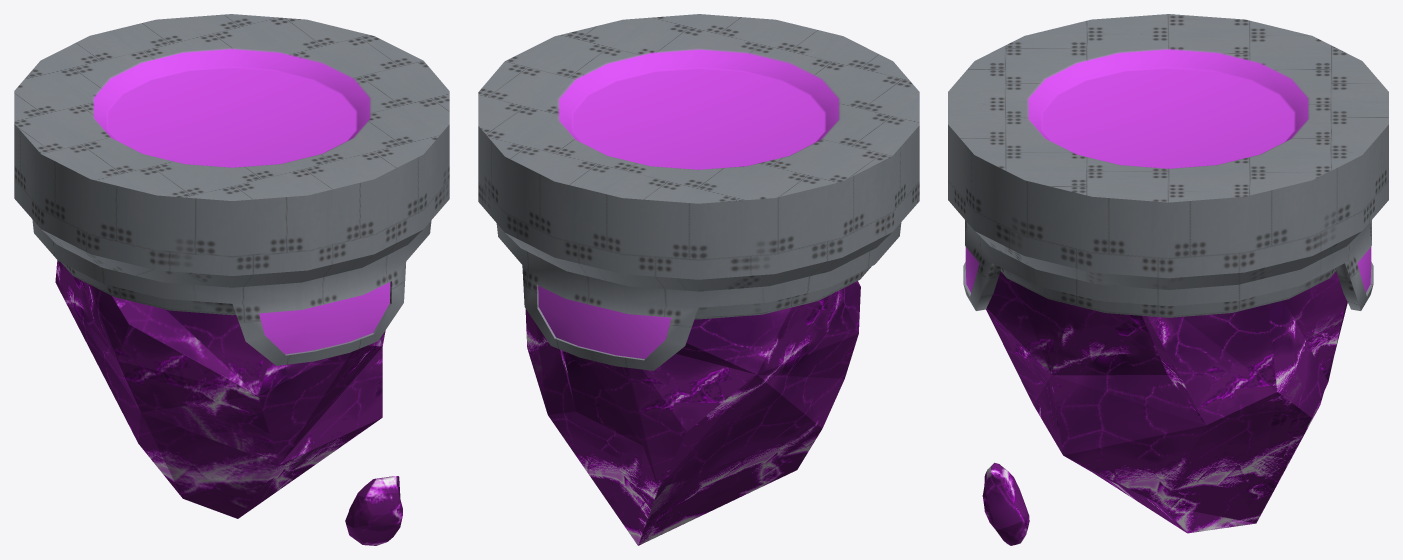
The model's file is PlataformaAerea.fbx.
3 views of the same model, side by side, from view 1: azimuth 30°, elevation 25°; view 2: azimuth 150°, elevation 25°; view 3: azimuth 270°, elevation 25° (orthographic).
Visible parts, largest first — view 1: PlataformaAerea, Roca; view 2: PlataformaAerea, Roca; view 3: PlataformaAerea, Roca.
Part boxes in pixels (box(x1,y1,x2,y2)): PlataformaAerea: box(14, 14, 449, 365); Roca: box(55, 260, 402, 545); PlataformaAerea: box(478, 14, 919, 370); Roca: box(525, 281, 860, 545); PlataformaAerea: box(948, 14, 1388, 317); Roca: box(982, 271, 1347, 545).
Bounding box in the file's own units: 536 × 539 × 529.
